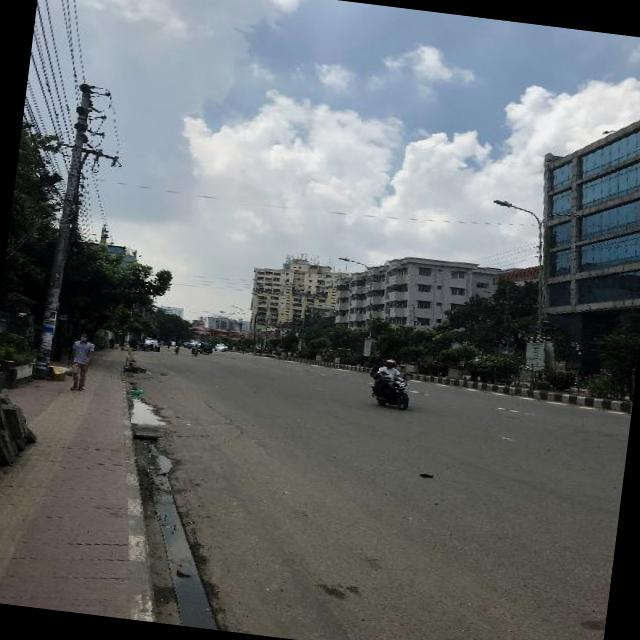car: (142, 334, 162, 351), (214, 341, 229, 352)
motorcycle: (368, 353, 418, 413), (201, 340, 214, 354), (190, 342, 200, 356), (186, 340, 193, 348)
